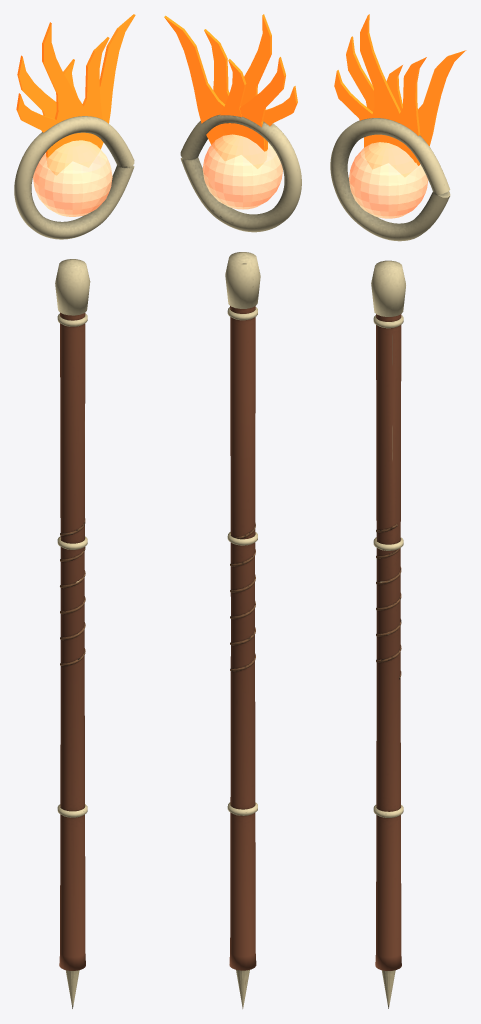
File: arma_lend_cajado_fogo.glb
3 renders of one model, left to right at view 1: azimuth 30°, elevation 25°; view 2: azimuth 150°, elevation 25°; view 3: azimuth 330°, elevation 25°, orthographic.
Visible parts, largest first — view 1: arma_lend_cajado_fogo, Sphere, chama2, chama0, chama5, chama4, chama1; view 2: arma_lend_cajado_fogo, Sphere, chama5, chama1, chama3, chama2, chama4, chama0; view 3: arma_lend_cajado_fogo, Sphere, chama2, chama0, chama5, chama4, chama1, chama3.
Boxes of the visible parts, bbox=[...] form: arma_lend_cajado_fogo: bbox=[14, 116, 134, 1008]; Sphere: bbox=[33, 140, 112, 216]; chama2: bbox=[42, 22, 92, 161]; chama0: bbox=[16, 93, 88, 174]; chama5: bbox=[76, 14, 135, 167]; chama4: bbox=[58, 37, 109, 163]; chama1: bbox=[17, 55, 56, 158]; arma_lend_cajado_fogo: bbox=[180, 114, 301, 1008]; Sphere: bbox=[202, 134, 282, 209]; chama5: bbox=[164, 15, 240, 160]; chama1: bbox=[239, 57, 285, 165]; chama3: bbox=[219, 59, 246, 153]; chama2: bbox=[241, 14, 271, 106]; chama4: bbox=[204, 29, 229, 103]; chama0: bbox=[246, 86, 297, 168]; arma_lend_cajado_fogo: bbox=[330, 118, 450, 1008]; Sphere: bbox=[349, 142, 428, 218]; chama2: bbox=[360, 14, 408, 164]; chama0: bbox=[334, 70, 403, 168]; chama5: bbox=[391, 50, 466, 176]; chama4: bbox=[382, 57, 426, 173]; chama1: bbox=[346, 36, 374, 111]; chama3: bbox=[386, 65, 402, 110].
Size of the model in its own units: 0.2975 by 2.22 by 0.162.
8 materials, 1 textured.
